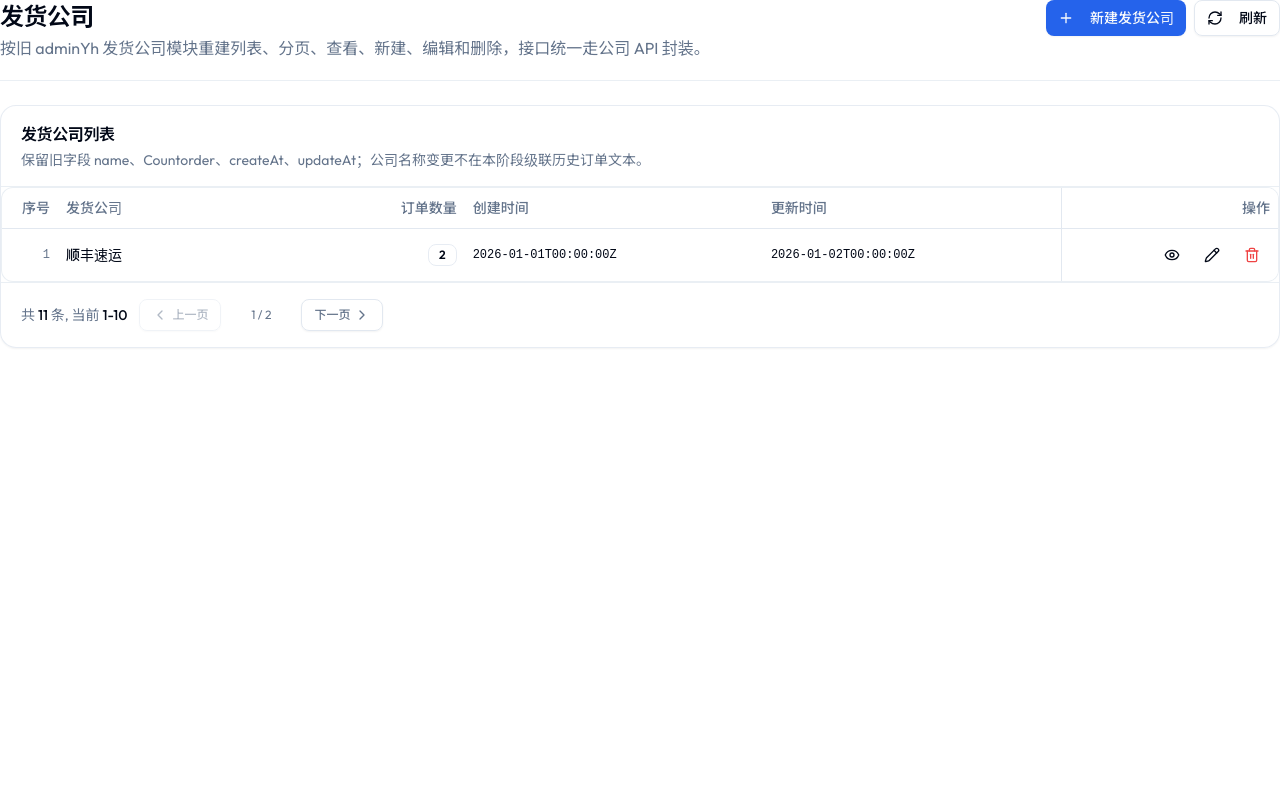
Scenario: CompaniesList › validates required old company name before creating
The width and height of the screenshot is (1280, 800).
Expected: the text "顺丰速运" is shown, [58,228,302,280]
Click the button "新建发货公司".
click(1116, 18)  # box [1046,0,1186,36]
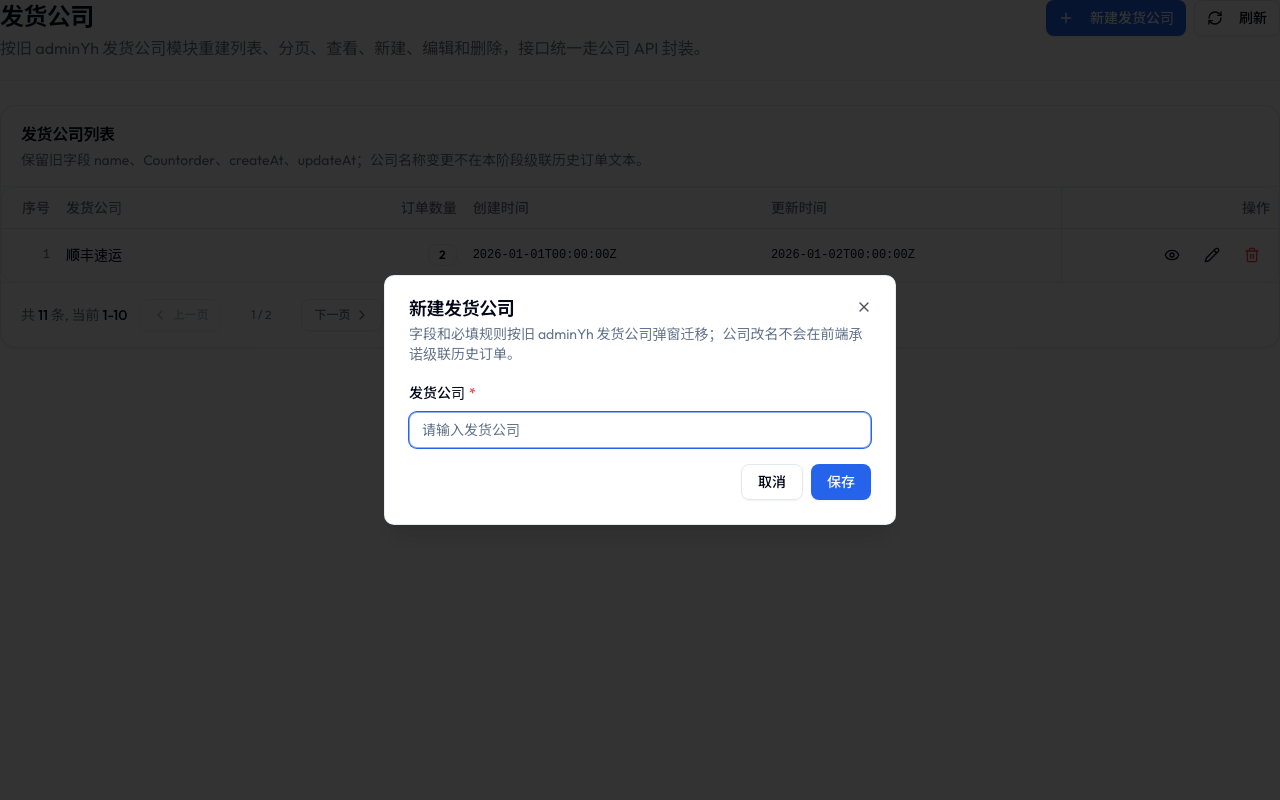
Click the button "保存".
click(841, 482)  # box [811,464,871,500]
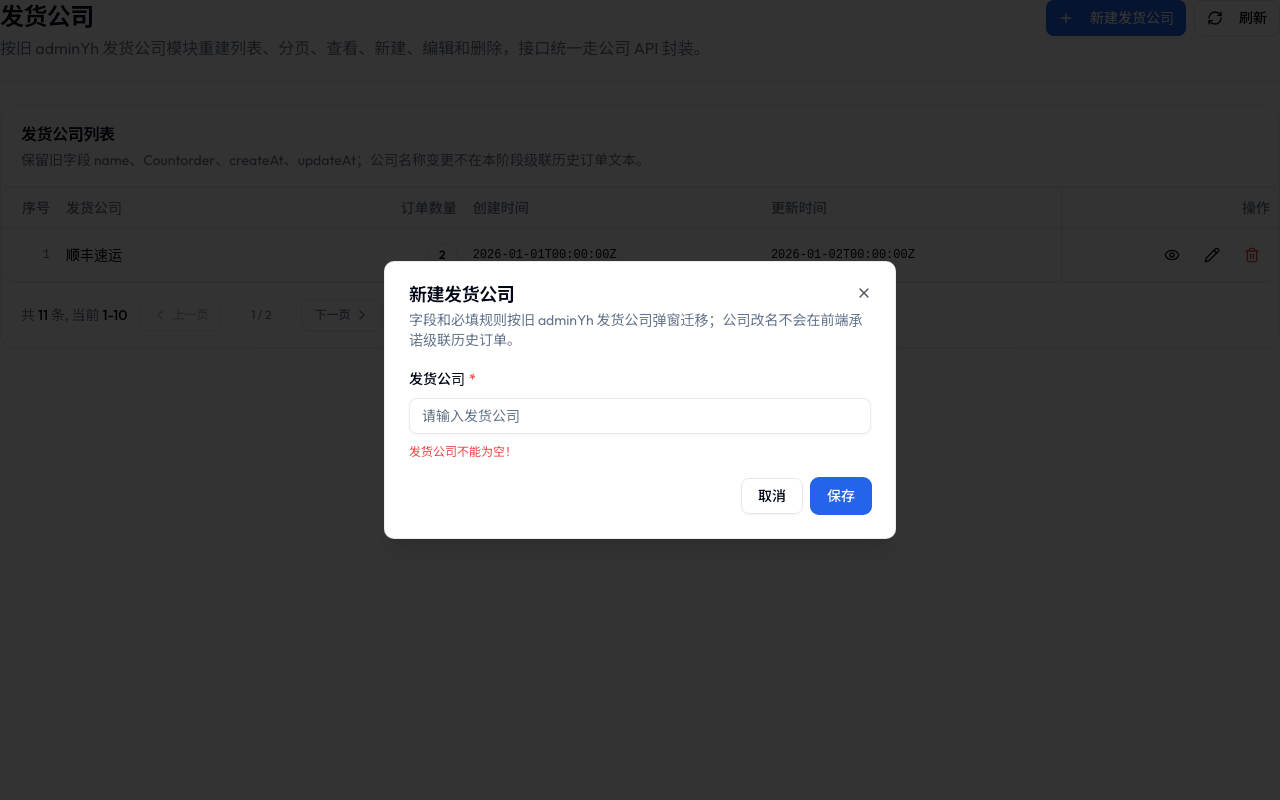
Expected: the text "发货公司不能为空！" is shown, [409,444,517,459]
